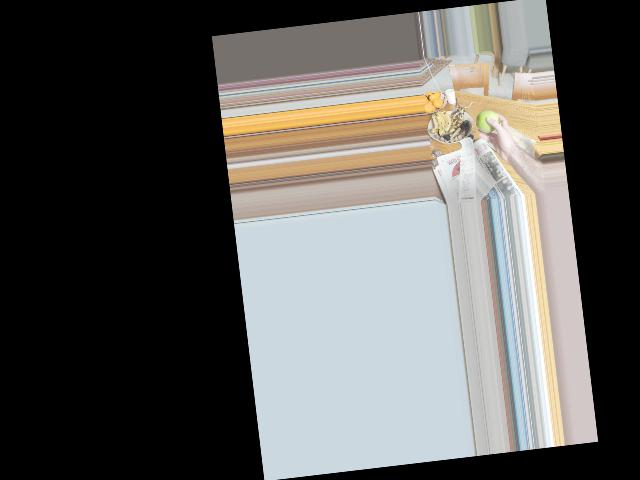apple: (474, 107, 497, 136)
